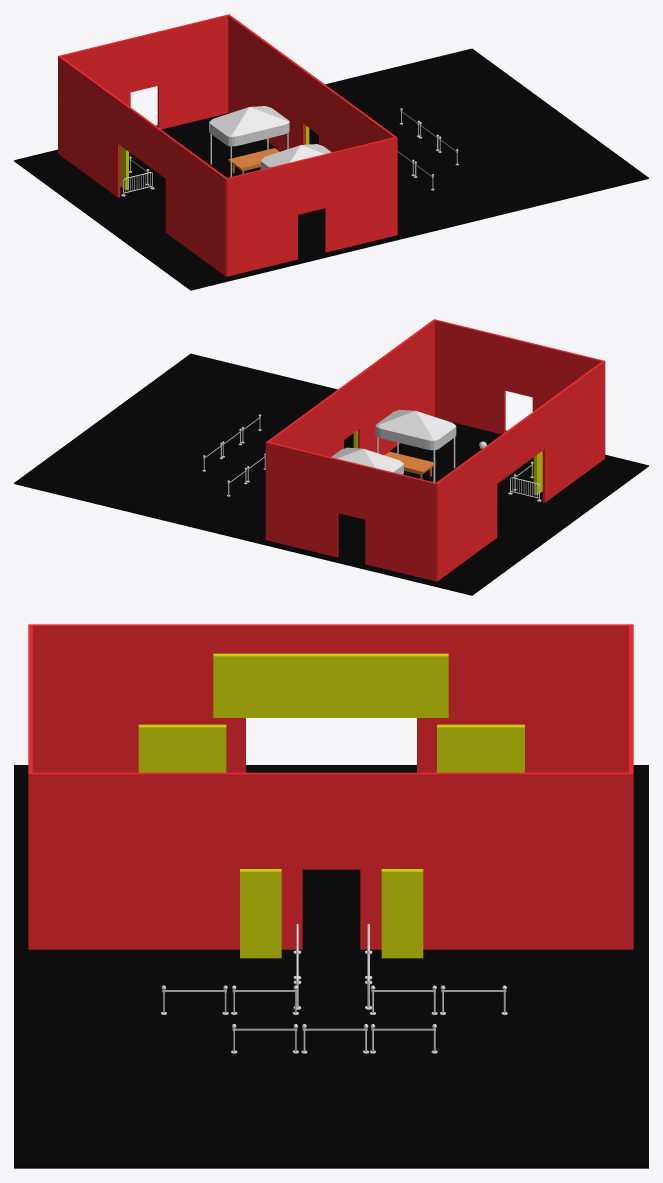
File: Hub Area 2.fbx
3 views of the same model, one above another, from view 1: azimuth 30°, elevation 25°; view 2: azimuth 150°, elevation 25°; view 3: azimuth 270°, elevation 25° (orthographic). The views are drawn at different scales.
Visible parts, largest first — view 1: Floor, Wall 4, Wall 1, Wall 3, Wall 2, Ticket Booth 1.001, Ticket Booth 1, Ticket Desk 2.001; view 2: Floor, Wall 3, Wall 1, Wall 4, Wall 2, Ticket Booth 1, Ticket Booth 1.001, Ticket Desk 2; view 3: Floor, Wall 2, Wall 1, Big CF Sign, Indoor Poster 1, Indoor Poster 2, Outdoor Poster 2, Outdoor Poster 1, Wall 4, Wall 3.
Boxes of the visible parts, x1,y1,x2,y2 form: Floor: (14,48,648,290); Wall 4: (226,136,397,276); Wall 1: (58,56,227,276); Wall 3: (59,14,229,129); Wall 2: (228,15,395,152); Ticket Booth 1.001: (209,106,289,176); Ticket Booth 1: (260,144,331,169); Ticket Desk 2.001: (228,148,279,174); Floor: (14,353,648,595); Wall 3: (265,441,436,581); Wall 1: (435,361,604,581); Wall 4: (433,319,605,457); Wall 2: (267,320,434,456); Ticket Booth 1: (375,409,456,482); Ticket Booth 1.001: (331,447,403,474); Ticket Desk 2: (384,451,435,479); Floor: (14,765,648,1168); Wall 2: (30,772,632,949); Wall 1: (30,624,632,772); Big CF Sign: (213,653,448,717); Indoor Poster 1: (138,724,226,772); Indoor Poster 2: (437,724,524,772); Outdoor Poster 2: (381,869,423,958); Outdoor Poster 1: (240,869,281,958); Wall 4: (28,624,32,949); Wall 3: (629,624,633,949).
Bounding box in the file's own units: 3016 × 622 × 2015.
